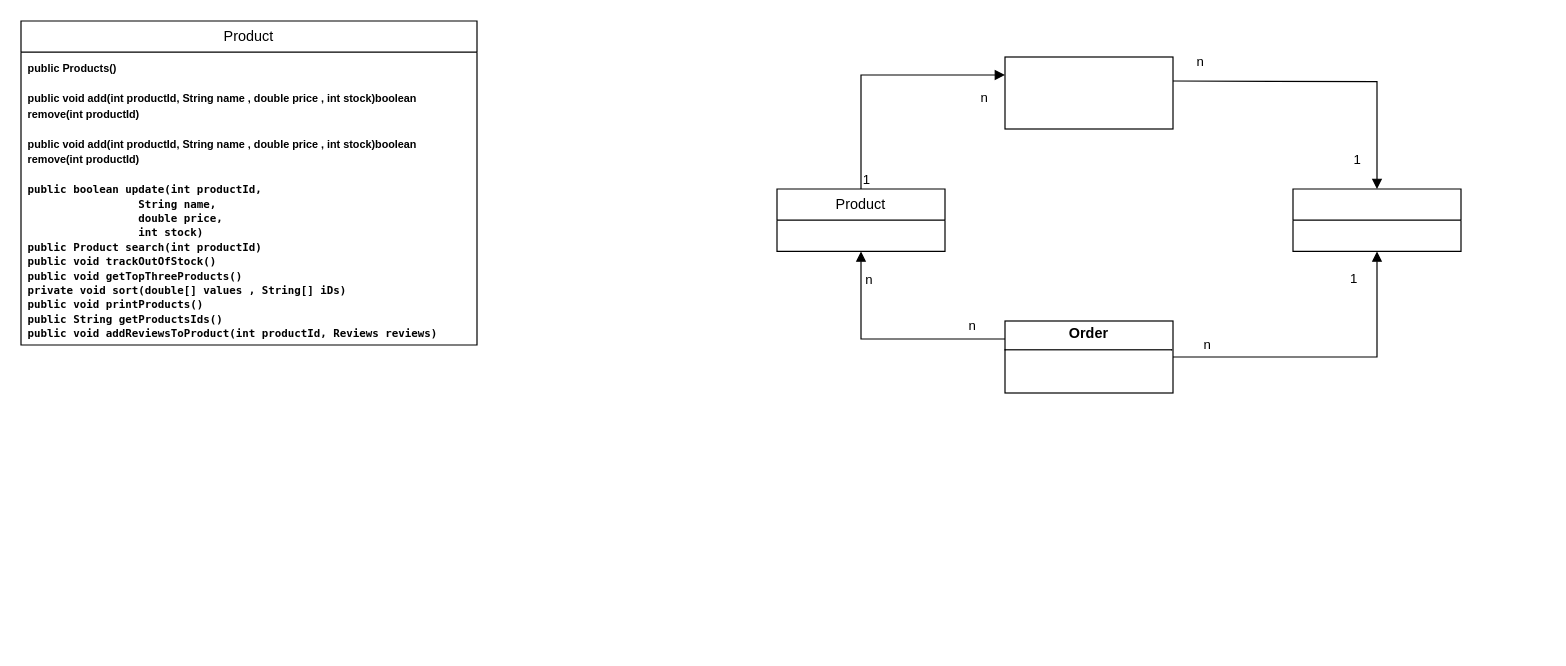
Image size: 1566x666. Some labels were removed from this diagram. Each missing label, with the centre of its shape:
"Customer" belongs at point (1376, 219).
"Review" belongs at point (1088, 92).
